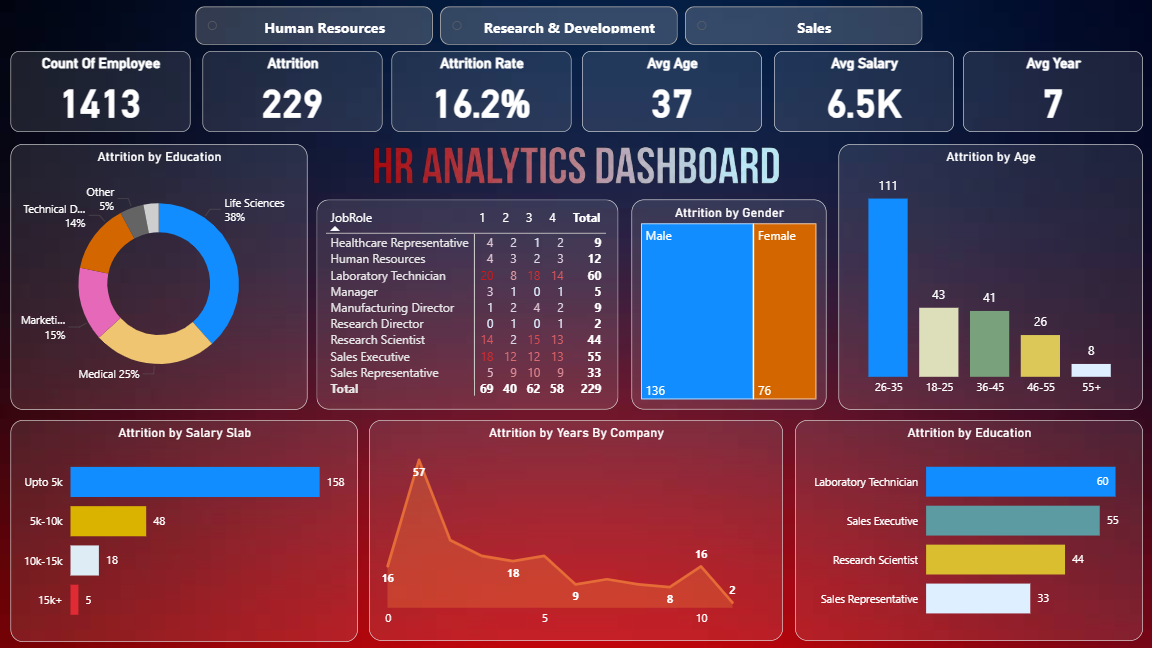

This screenshot's page, from the dashboard's own definition file:
{"tool":"powerbi","page":{"name":"Dasboard","canvas":[1280,720],"ordinal":0},"visuals":[{"type":"card","title":"Count Of Employee","fields":{"Values":["CountNonNull(HR_Analytics.EmpID)"]},"box":[11.7,56.7,200,90],"z":0},{"type":"card","title":"Attrition","fields":{"Values":["Sum(HR_Analytics.AttritionCount)"]},"box":[225,56.7,200,90],"z":1000},{"type":"card","title":"Avg Age","fields":{"Values":["Avg(HR_Analytics.Age)"]},"box":[646.7,56.7,200,90],"z":2000},{"type":"card","title":"Attrition Rate","fields":{"Values":["HR_Analytics.AttritionRate"]},"box":[435,56.7,200,90],"z":3000},{"type":"card","title":"Avg Year","fields":{"Values":["Avg(HR_Analytics.YearsAtCompany)"]},"box":[1070,56.7,200,90],"z":4000},{"type":"card","title":"Avg Salary","fields":{"Values":["Avg(HR_Analytics.MonthlyIncome)"]},"box":[860,56,200,90],"z":5000},{"type":"donutChart","title":"Attrition by Education","fields":{"Category":["HR_Analytics.EducationField"],"Y":["Sum(HR_Analytics.AttritionCount)"]},"box":[11.7,160,330,295],"z":6000},{"type":"columnChart","title":"Attrition by Age","fields":{"Category":["HR_Analytics.AgeGroup"],"Y":["Sum(HR_Analytics.AttritionCount)"]},"box":[931.7,160,338,295],"z":7000},{"type":"pivotTable","fields":{"Rows":["HR_Analytics.JobRole"],"Columns":["HR_Analytics.EnvironmentSatisfaction"],"Values":["Sum(HR_Analytics.AttritionCount)"]},"box":[351.7,221.7,335,233.3],"z":8000},{"type":"clusteredBarChart","title":"Attrition by Salary Slab","fields":{"Category":["HR_Analytics.SalarySlab"],"Y":["Sum(HR_Analytics.AttritionCount)"]},"box":[11.7,467,386,246.7],"z":9000},{"type":"clusteredBarChart","title":"Attrition by Education","fields":{"Y":["Sum(HR_Analytics.AttritionCount)"],"Category":["HR_Analytics.JobRole"]},"box":[883.3,467,386.7,245],"z":10000},{"type":"areaChart","title":"Attrition by Years By Company","fields":{"Y":["Sum(HR_Analytics.AttritionCount)"],"Category":["HR_Analytics.YearsAtCompany"]},"box":[410,467,460,245],"z":11000},{"type":"treemap","title":"Attrition by Gender","fields":{"Group":["HR_Analytics.Gender"],"Values":["Sum(HR_Analytics.AttritionCount)"]},"box":[701.7,221.7,216.7,233.3],"z":12000},{"type":"image","box":[405,146.7,470,75],"z":13000},{"type":"advancedSlicerVisual","fields":{"Values":["HR_Analytics.Department"]},"box":[211.7,1,818.3,53],"z":14000}]}

Visuals, with their boxes in screenshot pixels (x1, y1, x2, y2), scaled from the page's 1280x720 canvas onto the 1152x648 screenshot:
"Count Of Employee" card: x1=11, y1=51, x2=191, y2=132
"Attrition" card: x1=202, y1=51, x2=382, y2=132
"Avg Age" card: x1=582, y1=51, x2=762, y2=132
"Attrition Rate" card: x1=392, y1=51, x2=572, y2=132
"Avg Year" card: x1=963, y1=51, x2=1143, y2=132
"Avg Salary" card: x1=774, y1=50, x2=954, y2=131
"Attrition by Education" donutChart: x1=11, y1=144, x2=308, y2=410
"Attrition by Age" columnChart: x1=839, y1=144, x2=1143, y2=410
pivotTable - HR_Analytics.JobRole x HR_Analytics.EnvironmentSatisfaction: x1=317, y1=200, x2=618, y2=410
"Attrition by Salary Slab" clusteredBarChart: x1=11, y1=420, x2=358, y2=642
"Attrition by Education" clusteredBarChart: x1=795, y1=420, x2=1143, y2=641
"Attrition by Years By Company" areaChart: x1=369, y1=420, x2=783, y2=641
"Attrition by Gender" treemap: x1=632, y1=200, x2=827, y2=410
image: x1=364, y1=132, x2=788, y2=200
advancedSlicerVisual - HR_Analytics.Department: x1=191, y1=1, x2=927, y2=49
